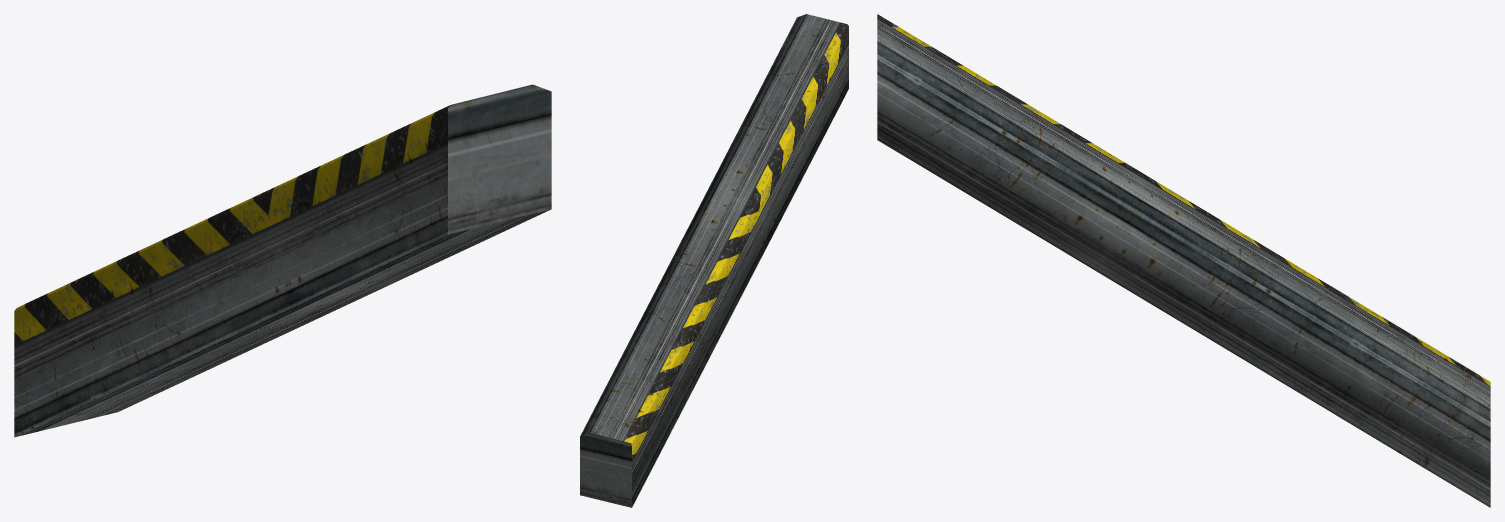
Rendered from Edges_21.fbx.
3 renders of one model, left to right at view 1: azimuth 30°, elevation 25°; view 2: azimuth 150°, elevation 25°; view 3: azimuth 270°, elevation 25°, orthographic. The views are drawn at different scales.
Parts seen in each view (by area): view 1: Edges_21; view 2: Edges_21; view 3: Edges_21.
Boxes of the visible parts, x1,y1,x2,y2 form: Edges_21: (14, 84, 551, 437); Edges_21: (580, 14, 848, 507); Edges_21: (877, 14, 1490, 507).
Size of the model in its own units: 27.63 by 165 by 200.
1 material, 1 textured.
